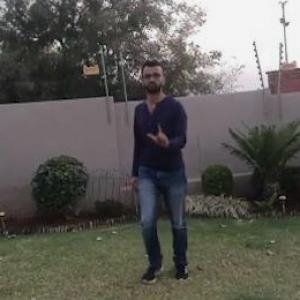land_hand: (140, 117, 176, 150)
